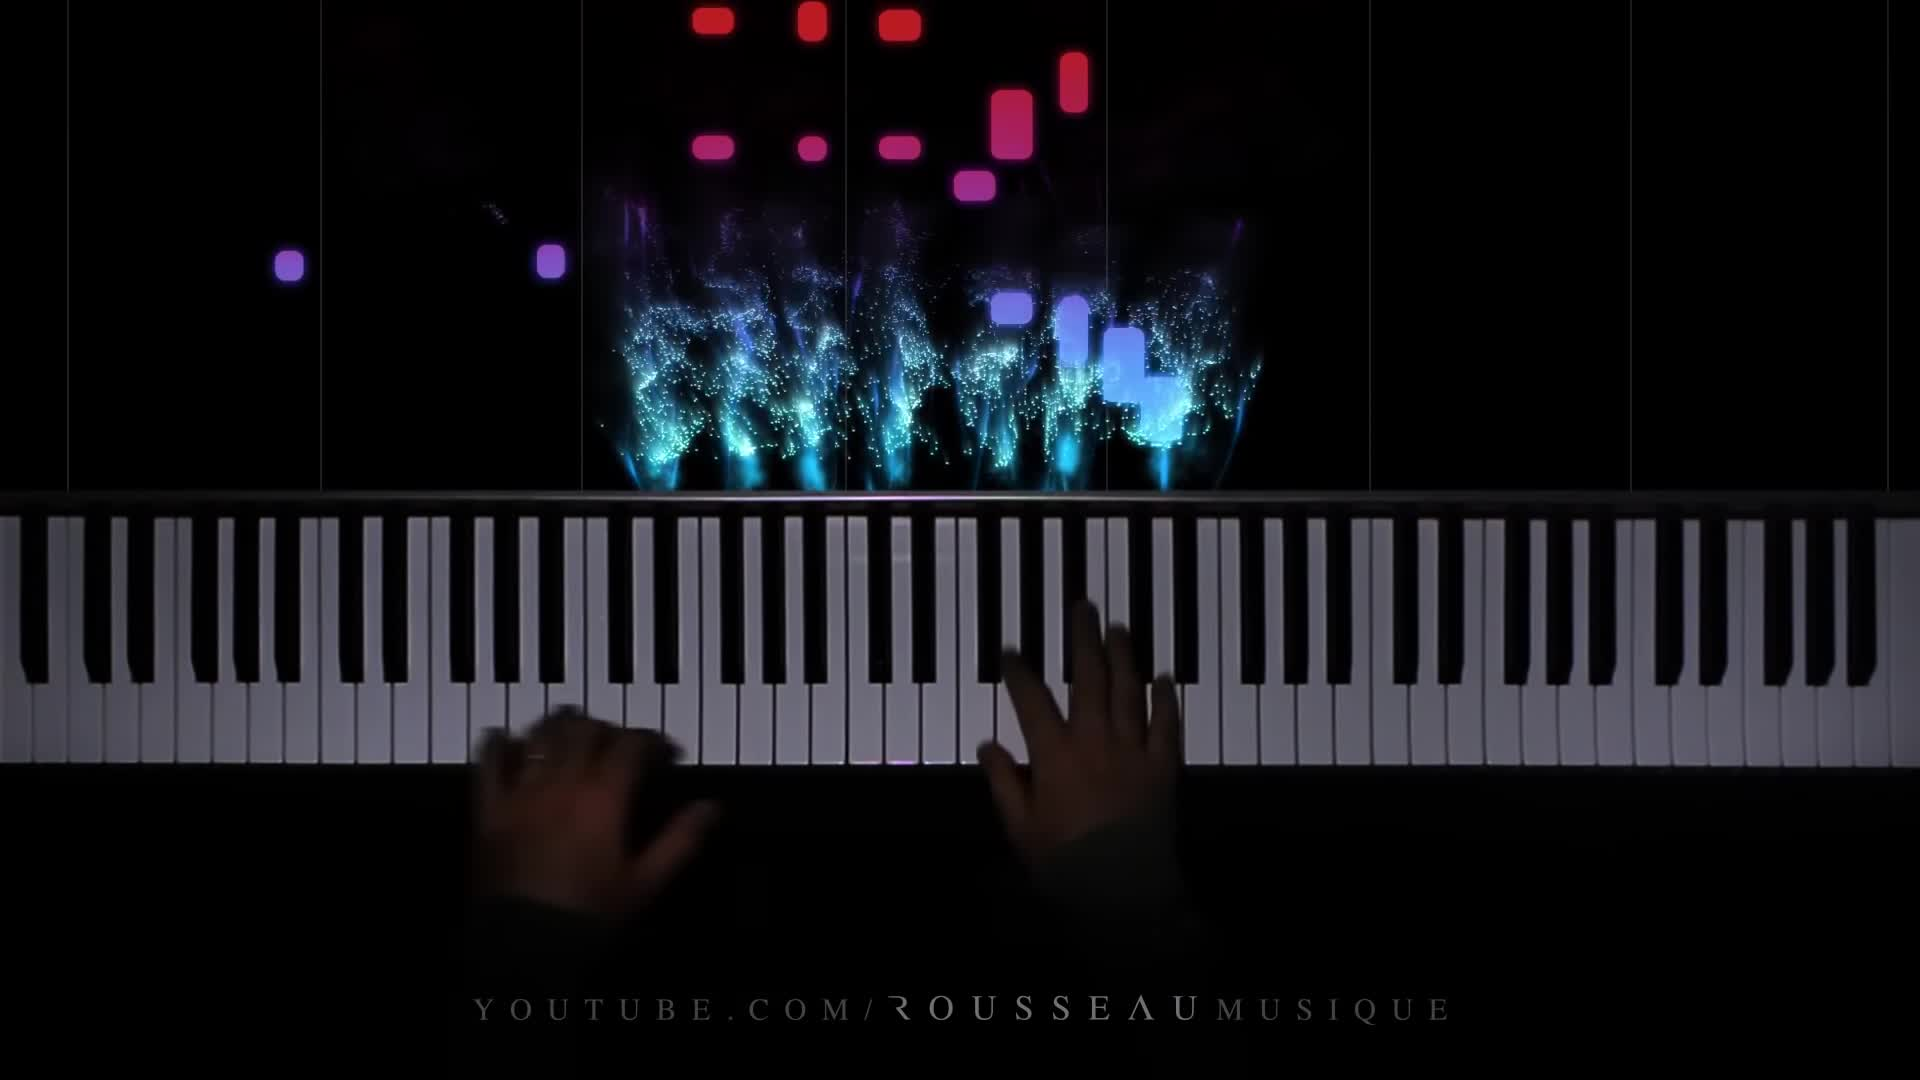left: (472, 695, 716, 938)
right: (975, 599, 1183, 881)
